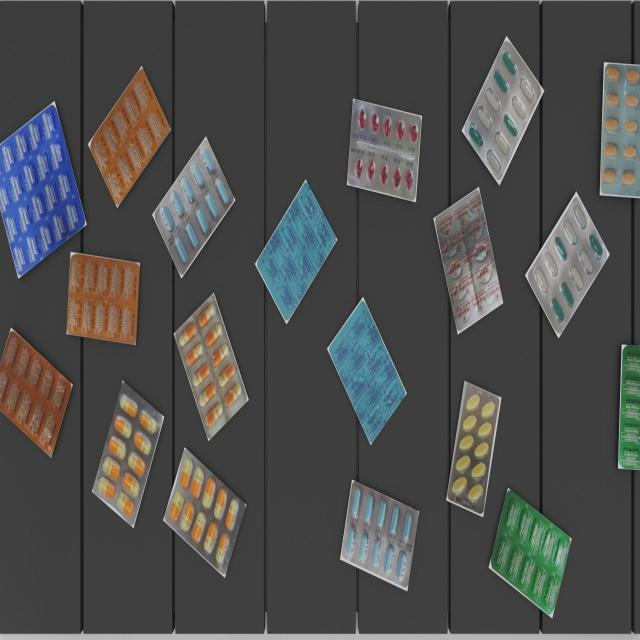blister: (0, 102, 86, 275), (459, 38, 542, 185), (525, 194, 610, 337), (326, 294, 407, 444), (87, 66, 170, 208), (256, 177, 336, 321), (153, 135, 234, 276), (90, 377, 163, 528), (491, 484, 574, 616), (175, 292, 248, 438), (434, 187, 504, 335), (164, 449, 246, 575), (0, 328, 73, 459), (338, 481, 419, 591), (347, 95, 422, 202), (447, 380, 501, 518), (66, 251, 140, 350), (597, 58, 640, 196), (617, 342, 640, 473)
